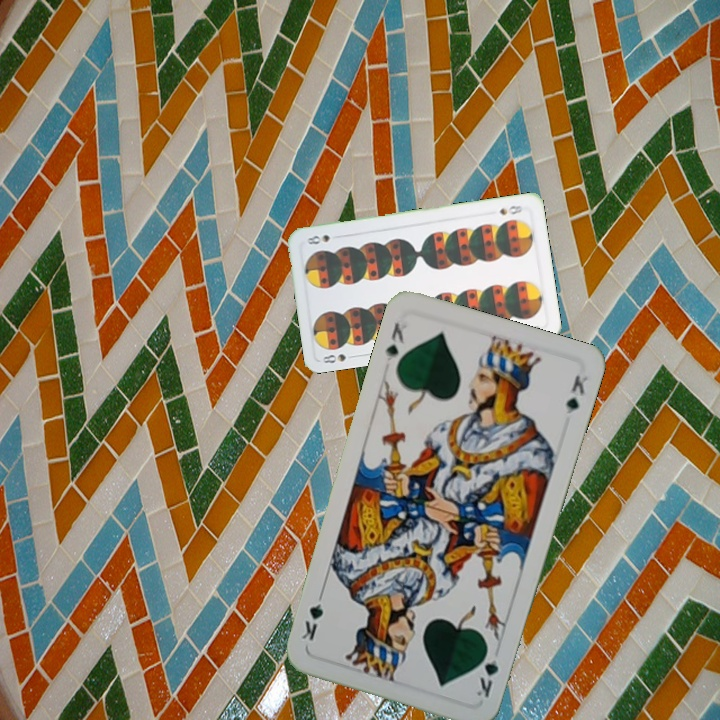GK: (472, 642, 501, 701), (381, 318, 407, 364)
S8: (319, 350, 359, 366), (496, 201, 525, 217)
